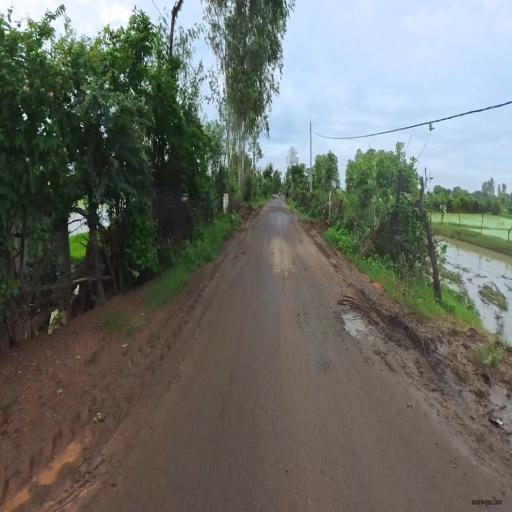edge_damage: (328, 263, 424, 435)
